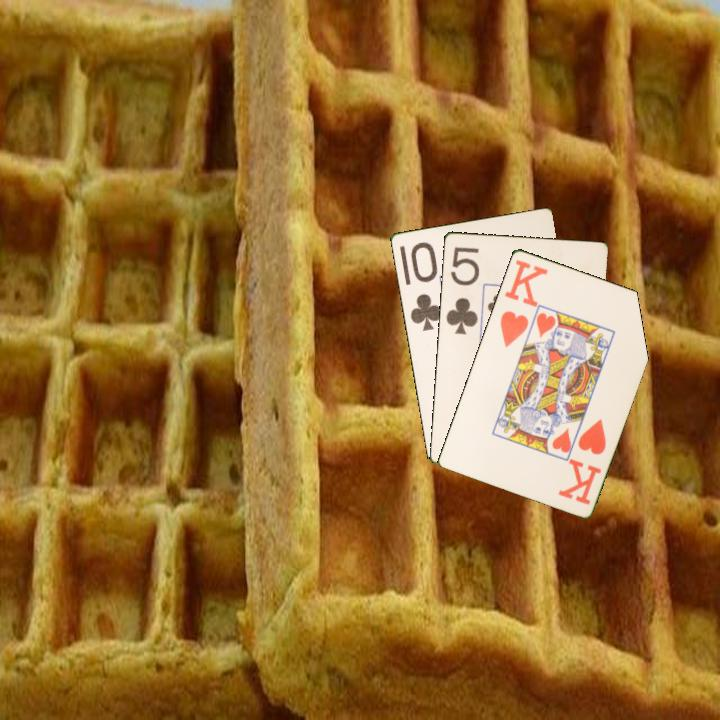10c: (406, 238, 445, 333)
5c: (442, 243, 482, 337)
Kh: (496, 256, 550, 350), (555, 415, 609, 507)
